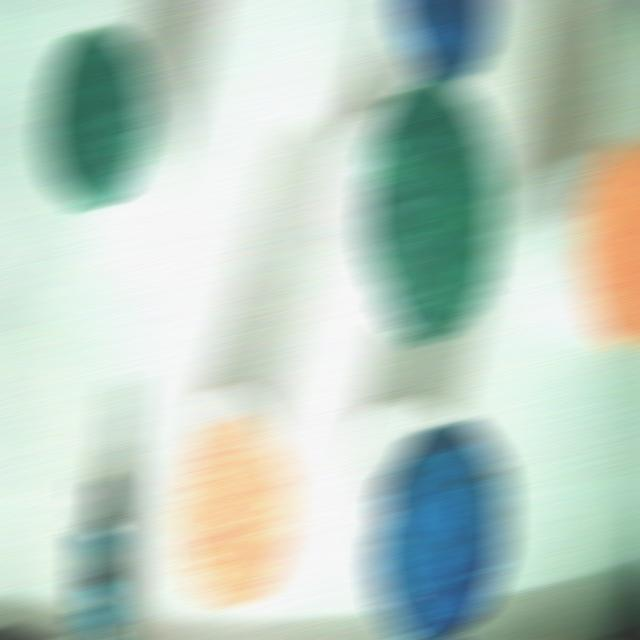blue: (368, 422, 509, 639), (388, 0, 493, 80)
green: (360, 80, 499, 343), (40, 25, 151, 208), (173, 419, 271, 554)
yellow: (172, 417, 293, 606), (576, 135, 639, 348), (582, 135, 639, 348)
